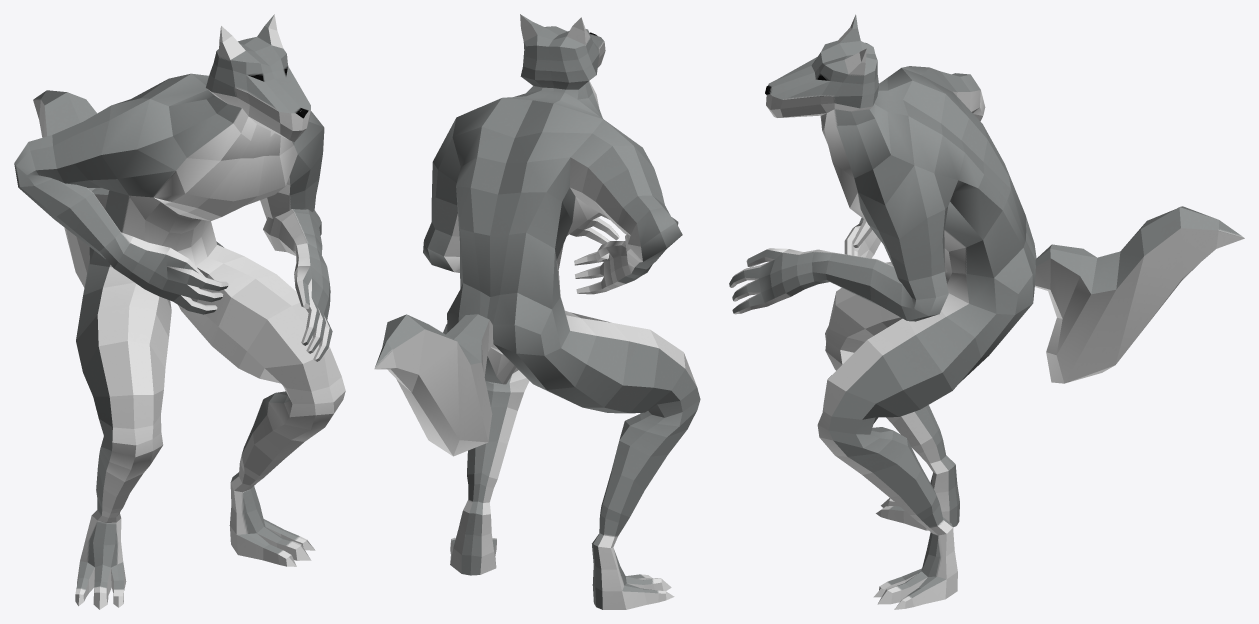
File: WolfIdle_(25).obj
3 renders of one model, left to right at view 1: azimuth 30°, elevation 25°; view 2: azimuth 150°, elevation 25°; view 3: azimuth 270°, elevation 25°, orthographic. The views are drawn at different scales.
Parts seen in each view (by area): view 1: Box001; view 2: Box001; view 3: Box001.
Part boxes in pixels (bbox=[...]): Box001: bbox=[14, 14, 345, 609]; Box001: bbox=[374, 14, 700, 609]; Box001: bbox=[729, 14, 1244, 609].
Size of the model in its own units: 69.61 by 133 by 115.
